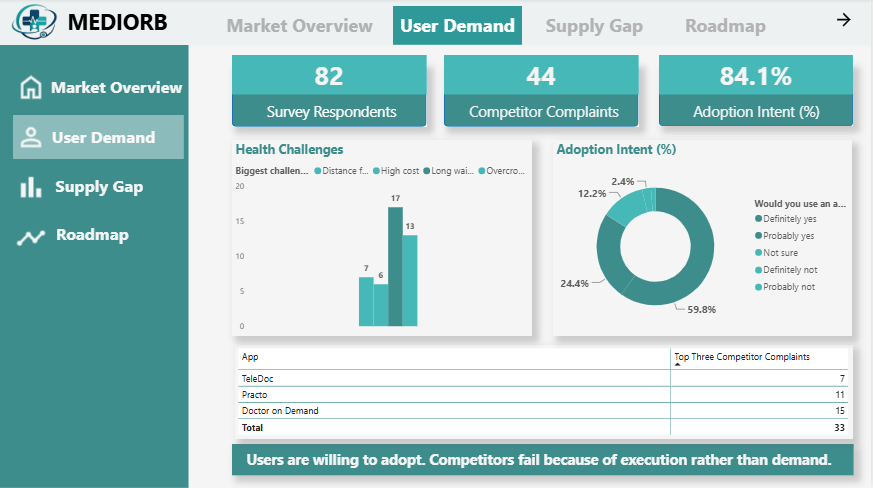

The page's visual inventory and layout, read from the dashboard file:
{"tool":"powerbi","page":{"name":"Page 2","canvas":[1280,720],"ordinal":1},"visuals":[{"type":"actionButton","box":[577.5,11.8,189.6,57.3],"z":0,"group":"g6"},{"type":"textbox","title":"P1_Market1","box":[321.8,16.2,236.6,52.9],"z":0,"group":"g9"},{"type":"group","id":"g1","title":"P2_Content","box":[340.9,83.8,914,618.6],"z":0},{"type":"group","id":"g2","title":"P2_KPI1","box":[340.9,83.8,286.2,105.3],"z":0,"group":"g1"},{"type":"shape","box":[968.4,96.9,285.2,91.2],"z":0,"group":"g5"},{"type":"shape","box":[341.6,97,285.6,92.1],"z":0,"group":"g2"},{"type":"shape","box":[652.4,97,285.6,92.1],"z":0,"group":"g3"},{"type":"donutChart","title":"Adoption Intent (%)","fields":{"Category":["Table1.Would you use an app to book hospital appointment online?"],"Y":["CountNonNull(Table1.ID)"]},"box":[813.2,208.5,439,288],"z":0,"group":"g7"},{"type":"shape","title":"PI_Header","box":[0,0,1279.3,70.1],"z":1000,"group":"g9"},{"type":"actionButton","box":[323.3,11.8,236.6,57.3],"z":1000,"group":"g6"},{"type":"textbox","title":"P1_Supply1","box":[781.7,16.2,183.7,52.9],"z":1000,"group":"g4"},{"type":"shape","title":"P1_Navigation","box":[0,69.1,277.1,650.7],"z":1000},{"type":"group","id":"g3","title":"P2_KPI2","box":[651.7,83.8,286.2,105.3],"z":1000,"group":"g1"},{"type":"textbox","title":"P1_NAV_Market","box":[62.6,109,216.3,44.7],"z":1000,"group":"g8"},{"type":"textbox","box":[999.9,146.4,221.7,44.7],"z":1000,"group":"g5"},{"type":"textbox","box":[670.3,146.7,255.6,37.5],"z":1000,"group":"g3"},{"type":"textbox","box":[381.6,147.4,210.7,40.4],"z":1000,"group":"g2"},{"type":"shape","title":"P1_CardShape","box":[341.4,655.7,913.5,46.5],"z":1000,"group":"g7"},{"type":"group","id":"g4","title":"Group 2","box":[323.3,10.3,828.7,58.8],"z":2000,"group":"g9"},{"type":"actionButton","box":[781.7,10.3,183.7,57.3],"z":2000,"group":"g6"},{"type":"textbox","title":"P1_Roadmap1","box":[980.1,16.2,171.9,52.9],"z":2000,"group":"g4"},{"type":"card","title":"Nigeria Population","fields":{"Values":["CountNonNull(Table1.ID)"]},"box":[340.9,83.8,285.6,58.3],"z":2000,"group":"g2"},{"type":"card","title":"Nigeria Population","fields":{"Values":["Sum(User Complaints.Frequency)"]},"box":[651.7,83.8,285.6,58.3],"z":2000,"group":"g3"},{"type":"group","id":"g5","title":"P2_KPI3","box":[967.7,83.8,285.9,107.3],"z":2000,"group":"g1"},{"type":"card","title":"Nigeria Population","fields":{"Values":["Table1.Adoption Intent %"]},"box":[967.7,83.8,285.2,57.7],"z":2000,"group":"g5"},{"type":"textbox","title":"P1_CardText","box":[357.5,657.5,876,39.3],"z":2000,"group":"g7"},{"type":"textbox","title":"P1_MEDIORB","box":[94,7.3,157.2,52.9],"z":3000,"group":"g9"},{"type":"group","id":"g6","title":"P1TOPBUTTONS","box":[323.3,10.3,828.7,58.8],"z":3000,"group":"g4"},{"type":"actionButton","box":[980.1,10.3,171.9,57.3],"z":3000,"group":"g6"},{"type":"group","id":"g7","title":"P2","box":[340.9,208.5,914,493.7],"z":3000,"group":"g1"},{"type":"clusteredColumnChart","title":"Health Challenges","fields":{"Series":["Table1.What is your biggest challenges when visiting a hospital?(Select all that apply)"],"Y":["CountNonNull(Table1.ID)"]},"box":[340.9,208.5,440.7,288],"z":3000,"group":"g7"},{"type":"textbox","title":"P1_NAV_Roadmap","box":[75.1,325.4,121.6,53.6],"z":3000,"group":"g8"},{"type":"textbox","title":"P1_User1","box":[571.6,16.2,201.3,52.9],"z":3500,"group":"g4"},{"type":"image","title":"P1_ARROWICON","box":[1225.5,11.8,29.4,39.7],"z":4000,"group":"g9"},{"type":"pivotTable","fields":{"Rows":["User Complaints.App"],"Values":["User Complaints.Total Complaints"]},"box":[345,509.1,908.2,137.7],"z":4000,"group":"g7"},{"type":"textbox","title":"P1_NAV_Supply","box":[76.9,253.8,139.4,53.6],"z":5000,"group":"g8"},{"type":"textbox","title":"P1_NAV_UserDemand","box":[69.7,182.3,166.3,53.6],"z":7000,"group":"g8"},{"type":"image","title":"P1_MEDIORBICON","box":[0,2.9,105.8,61.7],"z":8000,"group":"g8"},{"type":"group","id":"g8","title":"Group 5","box":[0,0,1279.3,379],"z":8500},{"type":"group","id":"g9","title":"P1_HEADER","box":[0,0,1279.3,70.1],"z":9000,"group":"g8"},{"type":"actionButton","title":"Marketoverview Button","box":[19.7,98.3,250.3,64.4],"z":9000},{"type":"actionButton","title":"Supplygap Button","box":[19.1,245.4,249.8,64.7],"z":9500},{"type":"actionButton","title":"Roadmap Button","box":[19.1,320.3,249.8,64.7],"z":10000},{"type":"actionButton","title":"Userdemand Button","box":[19.1,171.9,251.3,64.7],"z":10500}]}

Visuals, with their boxes in screenshot pixels (x1, y1, x2, y2), scaled from the page's 1280x720 canvas onto the 873x488 screenshot:
actionButton: (x1=394, y1=8, x2=523, y2=47)
"P1_Market1" textbox: (x1=219, y1=11, x2=381, y2=47)
"P2_Content" group: (x1=233, y1=57, x2=856, y2=476)
"P2_KPI1" group: (x1=233, y1=57, x2=428, y2=128)
shape: (x1=660, y1=66, x2=855, y2=127)
shape: (x1=233, y1=66, x2=428, y2=128)
shape: (x1=445, y1=66, x2=640, y2=128)
"Adoption Intent (%)" donutChart: (x1=555, y1=141, x2=854, y2=337)
"PI_Header" shape: (x1=0, y1=0, x2=872, y2=48)
actionButton: (x1=221, y1=8, x2=382, y2=47)
"P1_Supply1" textbox: (x1=533, y1=11, x2=658, y2=47)
"P1_Navigation" shape: (x1=0, y1=47, x2=189, y2=487)
"P2_KPI2" group: (x1=444, y1=57, x2=640, y2=128)
"P1_NAV_Market" textbox: (x1=43, y1=74, x2=190, y2=104)
textbox: (x1=682, y1=99, x2=833, y2=130)
textbox: (x1=457, y1=99, x2=631, y2=125)
textbox: (x1=260, y1=100, x2=404, y2=127)
"P1_CardShape" shape: (x1=233, y1=444, x2=856, y2=476)
"Group 2" group: (x1=221, y1=7, x2=786, y2=47)
actionButton: (x1=533, y1=7, x2=658, y2=46)
"P1_Roadmap1" textbox: (x1=668, y1=11, x2=786, y2=47)
"Nigeria Population" card: (x1=233, y1=57, x2=427, y2=96)
"Nigeria Population" card: (x1=444, y1=57, x2=639, y2=96)
"P2_KPI3" group: (x1=660, y1=57, x2=855, y2=130)
"Nigeria Population" card: (x1=660, y1=57, x2=855, y2=96)
"P1_CardText" textbox: (x1=244, y1=446, x2=841, y2=472)
"P1_MEDIORB" textbox: (x1=64, y1=5, x2=171, y2=41)
"P1TOPBUTTONS" group: (x1=221, y1=7, x2=786, y2=47)
actionButton: (x1=668, y1=7, x2=786, y2=46)
"P2" group: (x1=233, y1=141, x2=856, y2=476)
"Health Challenges" clusteredColumnChart: (x1=233, y1=141, x2=533, y2=337)
"P1_NAV_Roadmap" textbox: (x1=51, y1=221, x2=134, y2=257)
"P1_User1" textbox: (x1=390, y1=11, x2=527, y2=47)
"P1_ARROWICON" image: (x1=836, y1=8, x2=856, y2=35)
pivotTable - User Complaints.App x User Complaints.Total Complaints: (x1=235, y1=345, x2=855, y2=438)
"P1_NAV_Supply" textbox: (x1=52, y1=172, x2=148, y2=208)
"P1_NAV_UserDemand" textbox: (x1=48, y1=124, x2=161, y2=160)
"P1_MEDIORBICON" image: (x1=0, y1=2, x2=72, y2=44)
"Group 5" group: (x1=0, y1=0, x2=872, y2=257)
"P1_HEADER" group: (x1=0, y1=0, x2=872, y2=48)
"Marketoverview Button" actionButton: (x1=13, y1=67, x2=184, y2=110)
"Supplygap Button" actionButton: (x1=13, y1=166, x2=183, y2=210)
"Roadmap Button" actionButton: (x1=13, y1=217, x2=183, y2=261)
"Userdemand Button" actionButton: (x1=13, y1=117, x2=184, y2=160)
